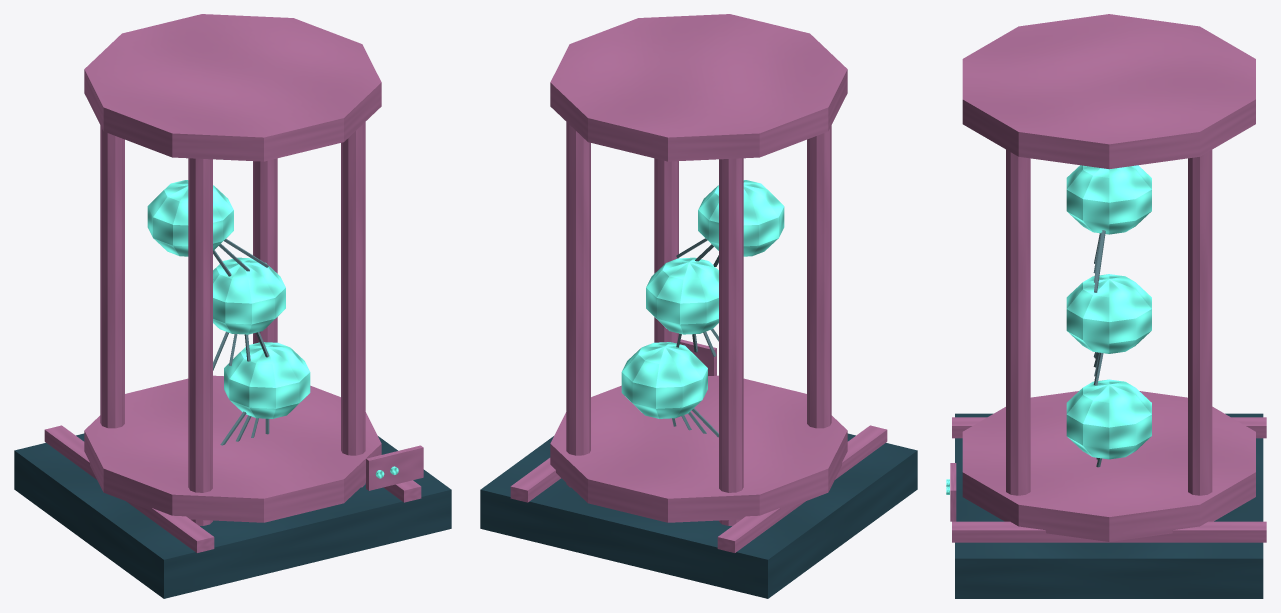
Rendered from atlas100-s070-a02.glb.
3 renders of one model, left to right at view 1: azimuth 30°, elevation 25°; view 2: azimuth 150°, elevation 25°; view 3: azimuth 270°, elevation 25°, orthographic. The views are drawn at different scales.
Visible parts, largest first — view 1: atlas100-s070-a02:part-004, atlas100-s070-a02:part-003, atlas100-s070-a02:part-000, atlas100-s070-a02:part-007, atlas100-s070-a02:part-005, atlas100-s070-a02:part-009, atlas100-s070-a02:part-013, atlas100-s070-a02:part-018, atlas100-s070-a02:part-023, atlas100-s070-a02:part-011, atlas100-s070-a02:part-001, atlas100-s070-a02:part-028; view 2: atlas100-s070-a02:part-004, atlas100-s070-a02:part-003, atlas100-s070-a02:part-000, atlas100-s070-a02:part-009, atlas100-s070-a02:part-011, atlas100-s070-a02:part-007, atlas100-s070-a02:part-013, atlas100-s070-a02:part-018, atlas100-s070-a02:part-023, atlas100-s070-a02:part-005, atlas100-s070-a02:part-001, atlas100-s070-a02:part-002; view 3: atlas100-s070-a02:part-004, atlas100-s070-a02:part-003, atlas100-s070-a02:part-000, atlas100-s070-a02:part-011, atlas100-s070-a02:part-005, atlas100-s070-a02:part-013, atlas100-s070-a02:part-018, atlas100-s070-a02:part-023, atlas100-s070-a02:part-002, atlas100-s070-a02:part-001.
Part boxes in pixels (x1=…): atlas100-s070-a02:part-004: x1=84, y1=14, x2=381, y2=161; atlas100-s070-a02:part-003: x1=84, y1=375, x2=381, y2=522; atlas100-s070-a02:part-000: x1=14, y1=433, x2=451, y2=598; atlas100-s070-a02:part-007: x1=188, y1=158, x2=212, y2=525; atlas100-s070-a02:part-005: x1=341, y1=122, x2=365, y2=487; atlas100-s070-a02:part-009: x1=100, y1=125, x2=124, y2=428; atlas100-s070-a02:part-013: x1=224, y1=342, x2=310, y2=418; atlas100-s070-a02:part-018: x1=213, y1=257, x2=285, y2=334; atlas100-s070-a02:part-023: x1=147, y1=180, x2=233, y2=256; atlas100-s070-a02:part-011: x1=253, y1=158, x2=277, y2=343; atlas100-s070-a02:part-001: x1=44, y1=425, x2=214, y2=552; atlas100-s070-a02:part-028: x1=366, y1=445, x2=423, y2=490; atlas100-s070-a02:part-004: x1=550, y1=14, x2=847, y2=161; atlas100-s070-a02:part-003: x1=550, y1=375, x2=847, y2=522; atlas100-s070-a02:part-000: x1=480, y1=433, x2=917, y2=598; atlas100-s070-a02:part-009: x1=719, y1=158, x2=743, y2=525; atlas100-s070-a02:part-011: x1=566, y1=122, x2=590, y2=487; atlas100-s070-a02:part-007: x1=807, y1=125, x2=831, y2=428; atlas100-s070-a02:part-013: x1=621, y1=342, x2=707, y2=418; atlas100-s070-a02:part-018: x1=646, y1=257, x2=718, y2=334; atlas100-s070-a02:part-023: x1=698, y1=180, x2=784, y2=256; atlas100-s070-a02:part-005: x1=654, y1=158, x2=678, y2=343; atlas100-s070-a02:part-001: x1=717, y1=425, x2=887, y2=552; atlas100-s070-a02:part-002: x1=510, y1=458, x2=560, y2=502; atlas100-s070-a02:part-004: x1=962, y1=14, x2=1255, y2=169; atlas100-s070-a02:part-003: x1=962, y1=391, x2=1255, y2=541; atlas100-s070-a02:part-000: x1=955, y1=413, x2=1263, y2=598; atlas100-s070-a02:part-011: x1=1188, y1=150, x2=1212, y2=495; atlas100-s070-a02:part-005: x1=1006, y1=149, x2=1030, y2=495; atlas100-s070-a02:part-013: x1=1066, y1=379, x2=1151, y2=459; atlas100-s070-a02:part-018: x1=1066, y1=274, x2=1151, y2=353; atlas100-s070-a02:part-023: x1=1066, y1=165, x2=1151, y2=234; atlas100-s070-a02:part-002: x1=952, y1=521, x2=1266, y2=542; atlas100-s070-a02:part-001: x1=952, y1=417, x2=1266, y2=438.
Size of the model in its own units: 2 by 2.88 by 1.87.
4 materials, 4 textured.
